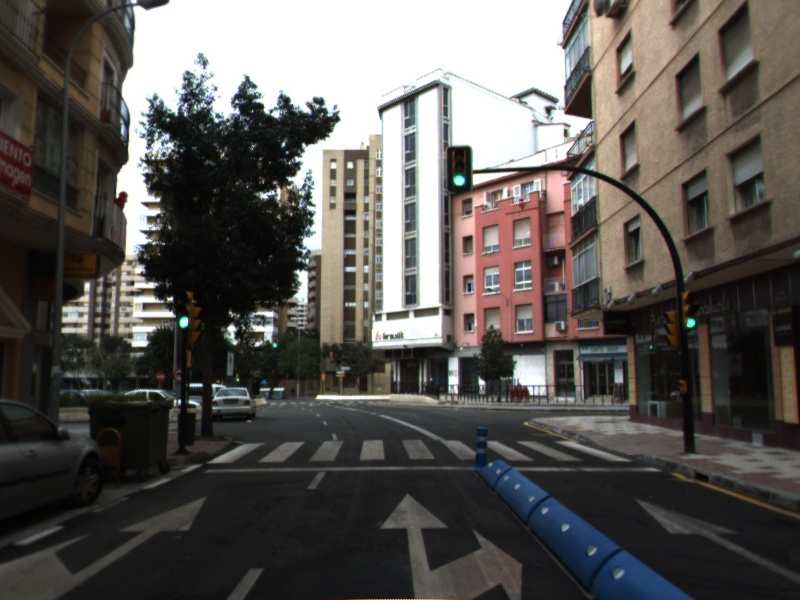STRAIGHT: (626, 491, 800, 580)
STRAIGHT_LEFT: (1, 493, 211, 599)
STRAIGHT_RIGHT: (376, 489, 527, 600)
